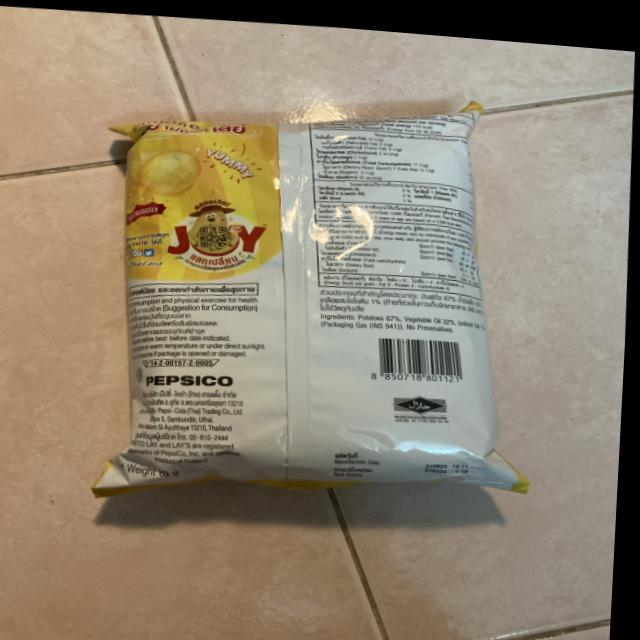LayYellow: (81, 60, 515, 531)
